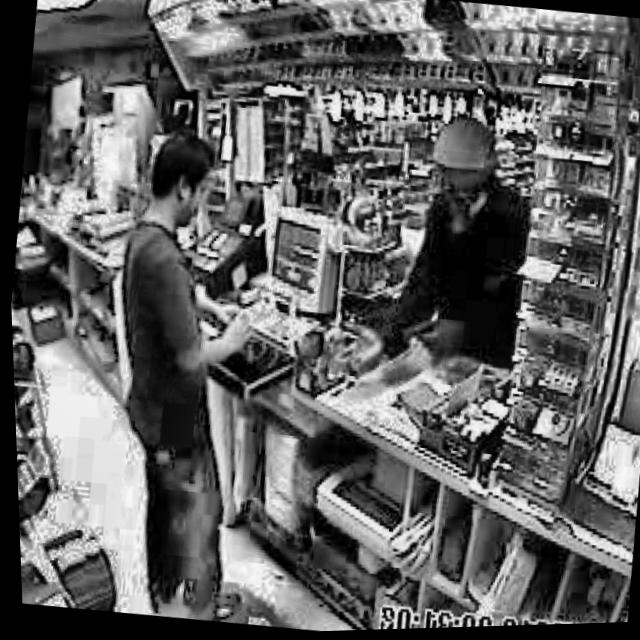robbery: (321, 99, 542, 400)
